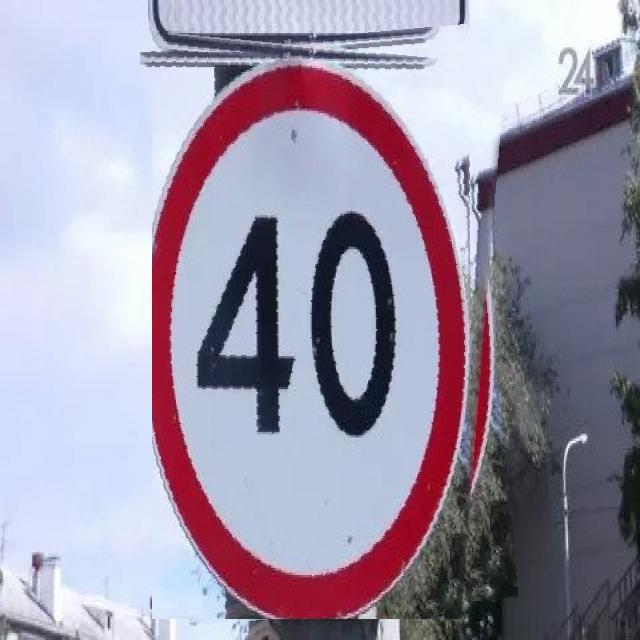speed limit 40: (152, 31, 506, 619)
